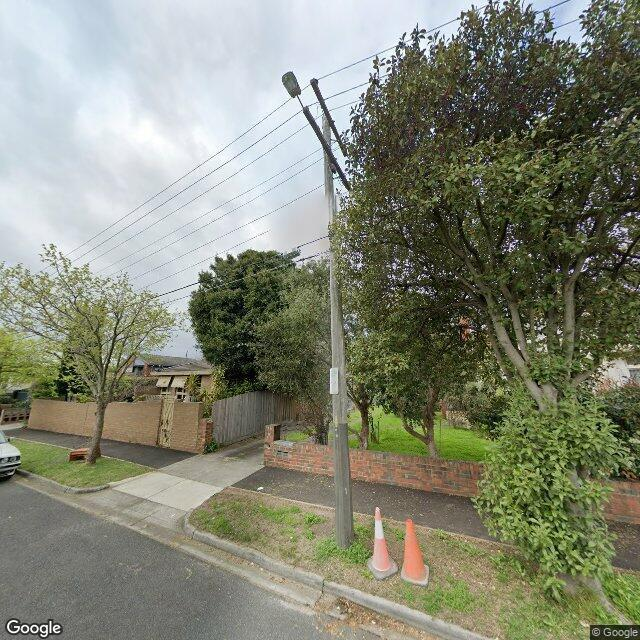crossarm: (302, 106, 350, 191), (310, 78, 347, 157)
streetlight: (282, 71, 304, 109)
timber-pole: (322, 112, 353, 550)
